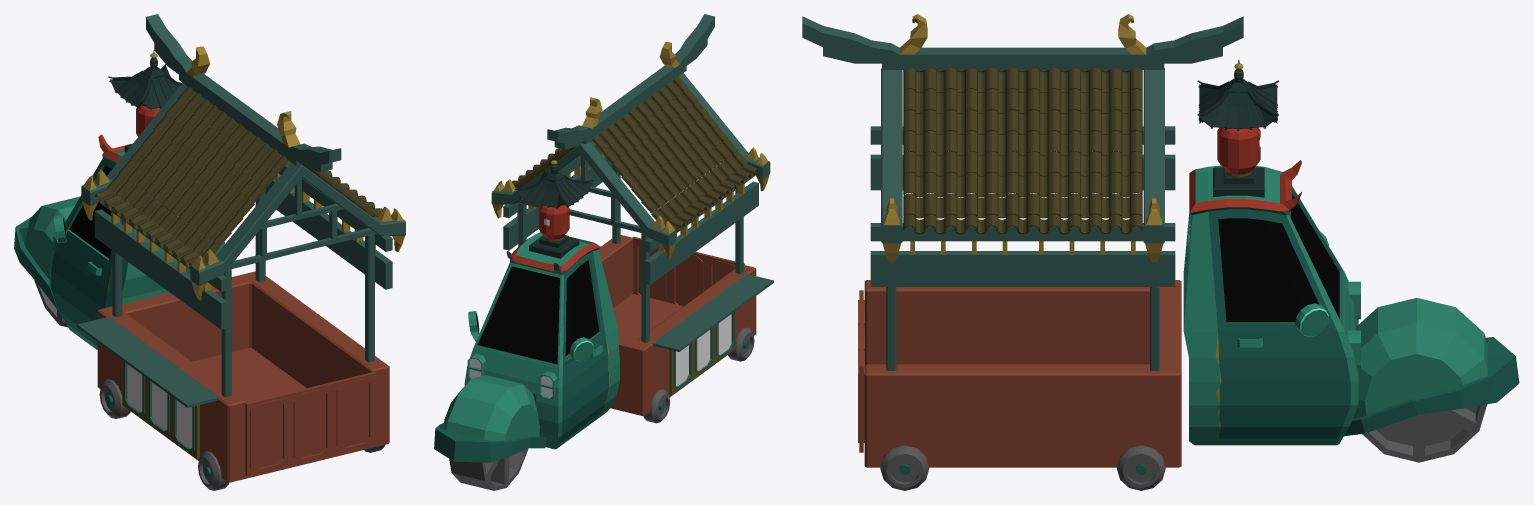
Rendered from booth.fbx.
The picture shows the model from 3 angles, left to right: view 1: azimuth 30°, elevation 25°; view 2: azimuth 150°, elevation 25°; view 3: azimuth 270°, elevation 25°; orthographic projection. The views are drawn at different scales.
Visible parts, largest first — view 1: Cube.003, Roof, Circle, Cube.004, Cube.002, Cylinder.001, Cylinder, Cube.005, Cylinder.002; view 2: Cube.004, Cube.003, Roof, Circle, Cylinder.001, Cube.002, Cylinder.002, Cube.005, Cylinder; view 3: Cube.003, Cube.004, Circle, Roof, Cylinder.001, Cylinder, Cylinder.002, Cube.005, Cube.002.
Boxes of the visible parts, x1,y1,x2,y2 form: Cube.003: (77, 271, 389, 482); Roof: (81, 14, 405, 329); Circle: (95, 86, 382, 268); Cube.004: (49, 134, 225, 349); Cube.002: (112, 178, 376, 397); Cylinder.001: (14, 196, 79, 327); Cylinder: (99, 379, 385, 490); Cube.005: (110, 67, 177, 108); Cylinder.002: (124, 50, 161, 152); Cube.004: (464, 232, 619, 449); Cube.003: (598, 235, 773, 416); Roof: (491, 14, 770, 284); Circle: (512, 76, 758, 232); Cylinder.001: (434, 375, 546, 490); Cube.002: (517, 155, 743, 342); Cylinder.002: (529, 158, 579, 258); Cube.005: (516, 171, 591, 207); Cylinder: (643, 327, 754, 423); Cube.003: (858, 280, 1181, 467); Cube.004: (1183, 160, 1360, 445); Circle: (903, 68, 1142, 234); Roof: (802, 14, 1243, 286); Cylinder.001: (1344, 298, 1519, 462); Cylinder: (880, 445, 1165, 490); Cylinder.002: (1213, 59, 1264, 197); Cube.005: (1198, 78, 1277, 130); Cube.002: (886, 287, 1159, 370).
Size of the model in its own units: 383 by 615 by 919.
